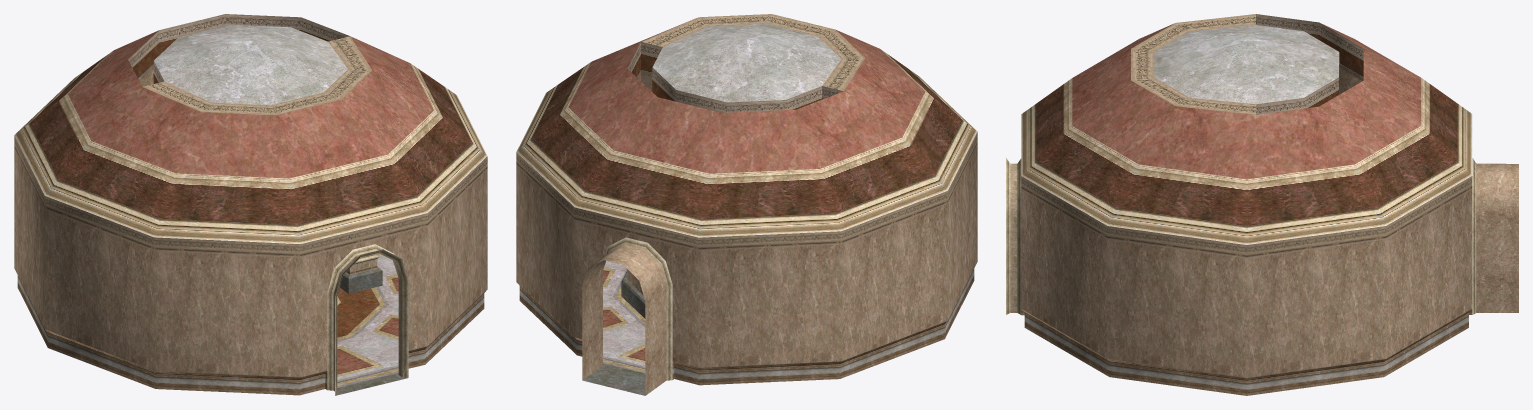
Rendered from thm_nboo_thed_theed_palace_r29_mesh_r29.fbx.
3 renders of one model, left to right at view 1: azimuth 30°, elevation 25°; view 2: azimuth 150°, elevation 25°; view 3: azimuth 270°, elevation 25°, orthographic. The views are drawn at different scales.
Visible parts, largest first — view 1: mesh_node; view 2: mesh_node; view 3: mesh_node.
Boxes of the visible parts, x1,y1,x2,y2 form: mesh_node: (14, 14, 487, 395); mesh_node: (516, 14, 977, 395); mesh_node: (1006, 14, 1518, 395).
Size of the model in its own units: 22.16 by 13.24 by 23.98.
